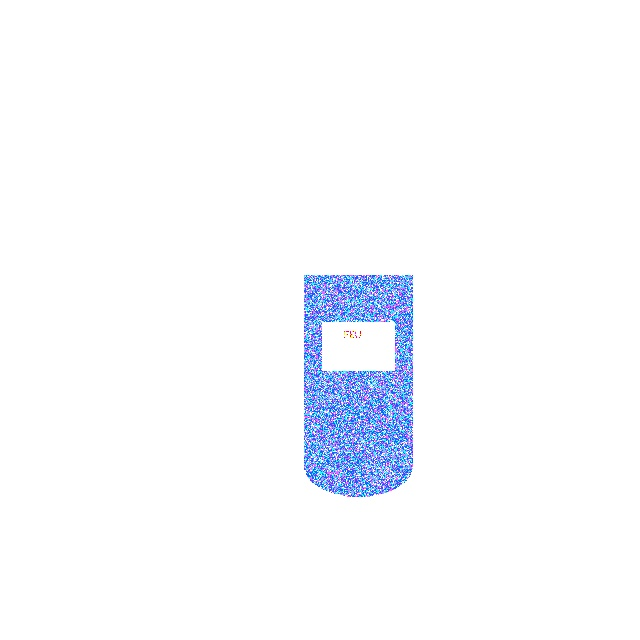Extincteur: (250, 275, 466, 465)
